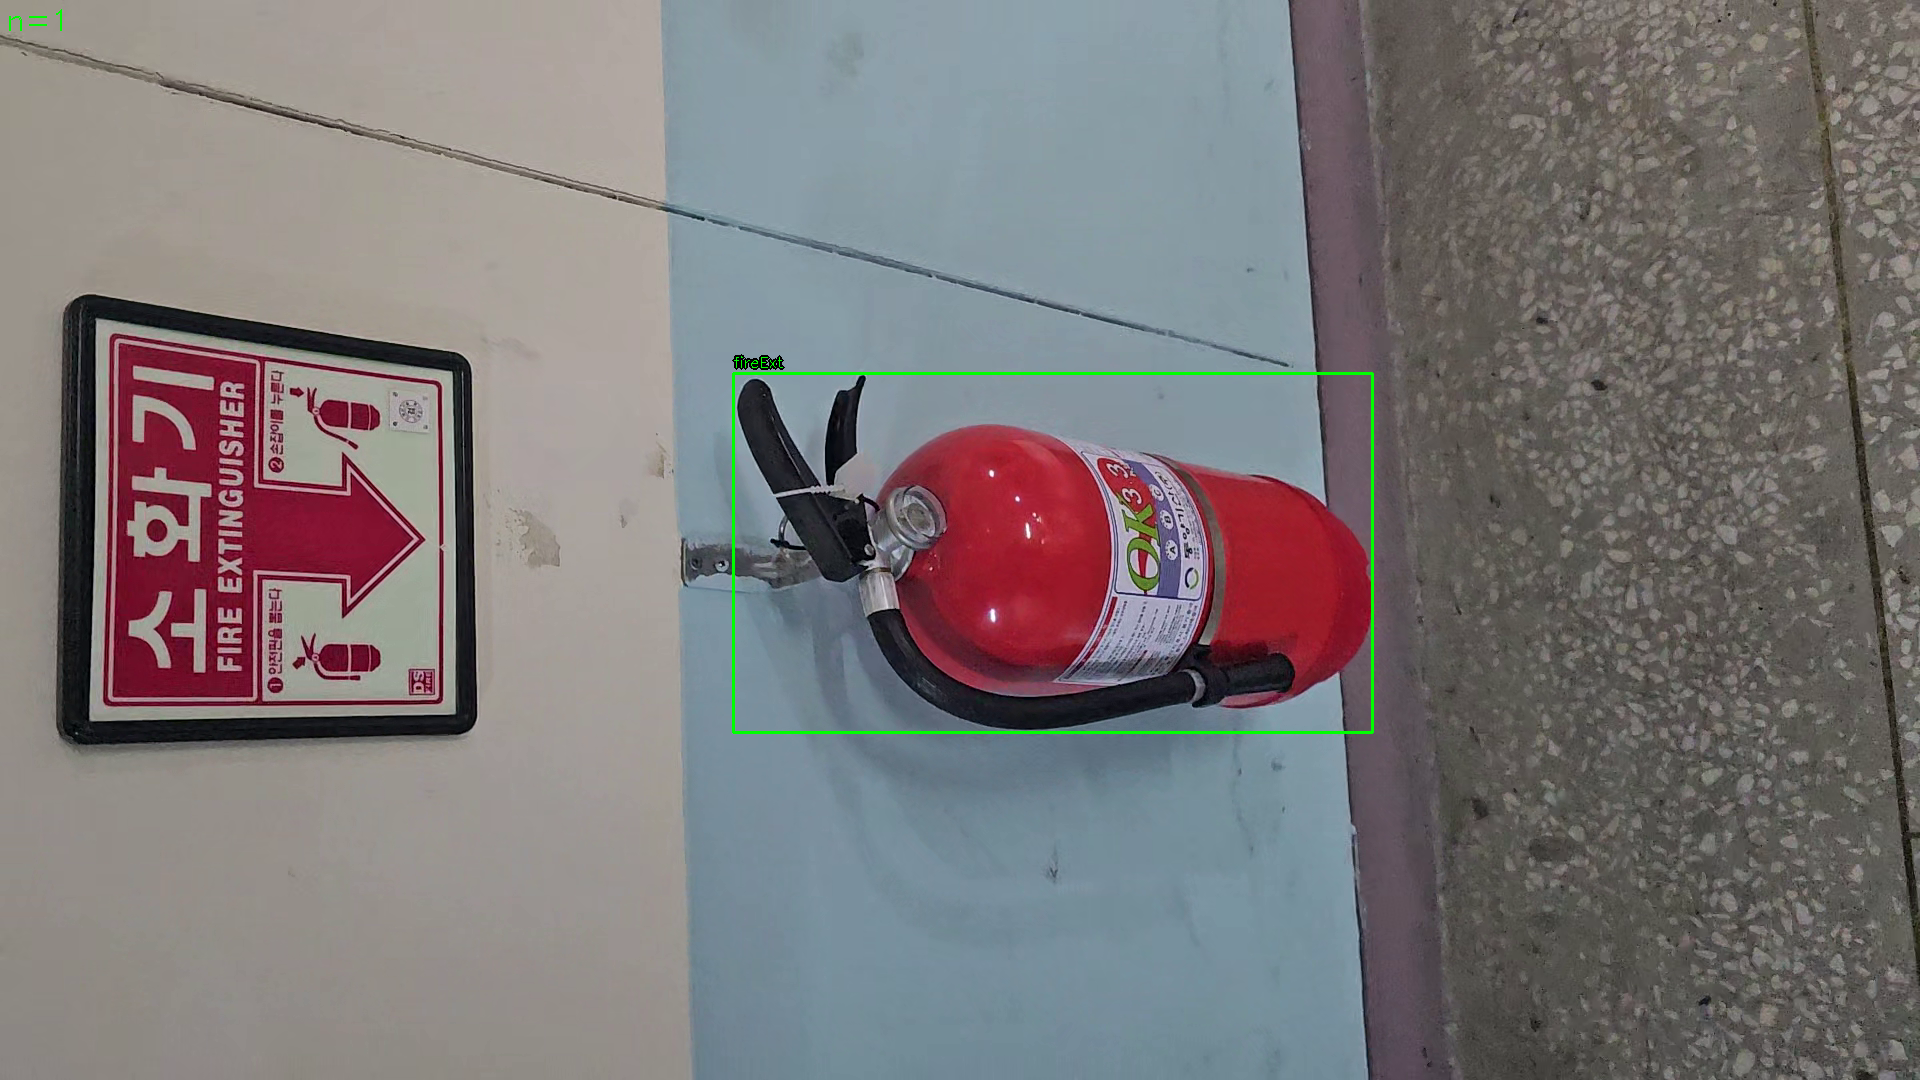lane: (733, 373, 1373, 733)
